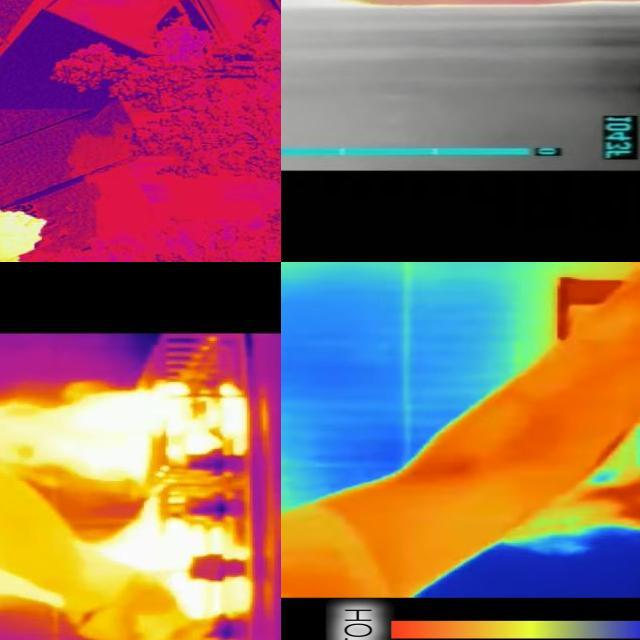fire: (90, 376, 255, 477), (119, 501, 237, 624), (1, 193, 53, 263), (610, 456, 640, 538)
